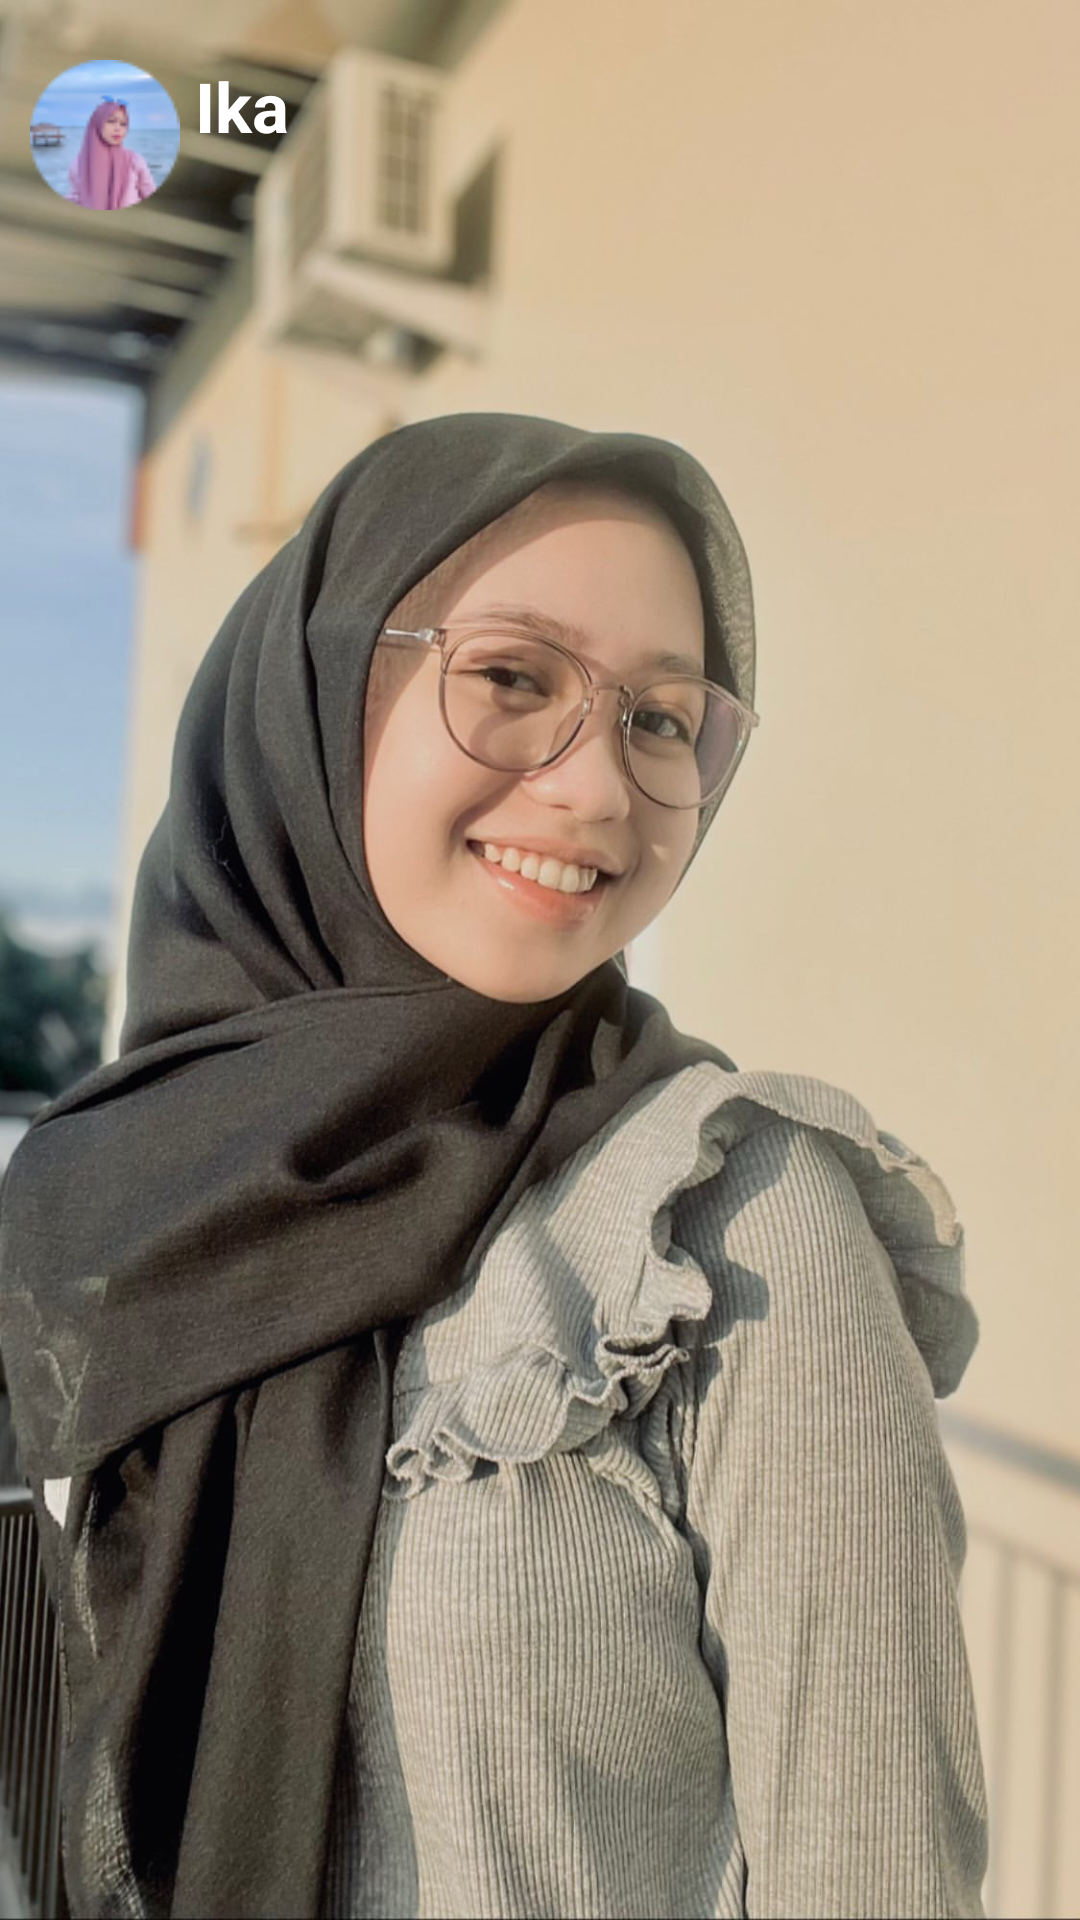

Screen size 1080*1920. Icon name, then its center in pixels as (x,y):
chatprofil: (105,135)
